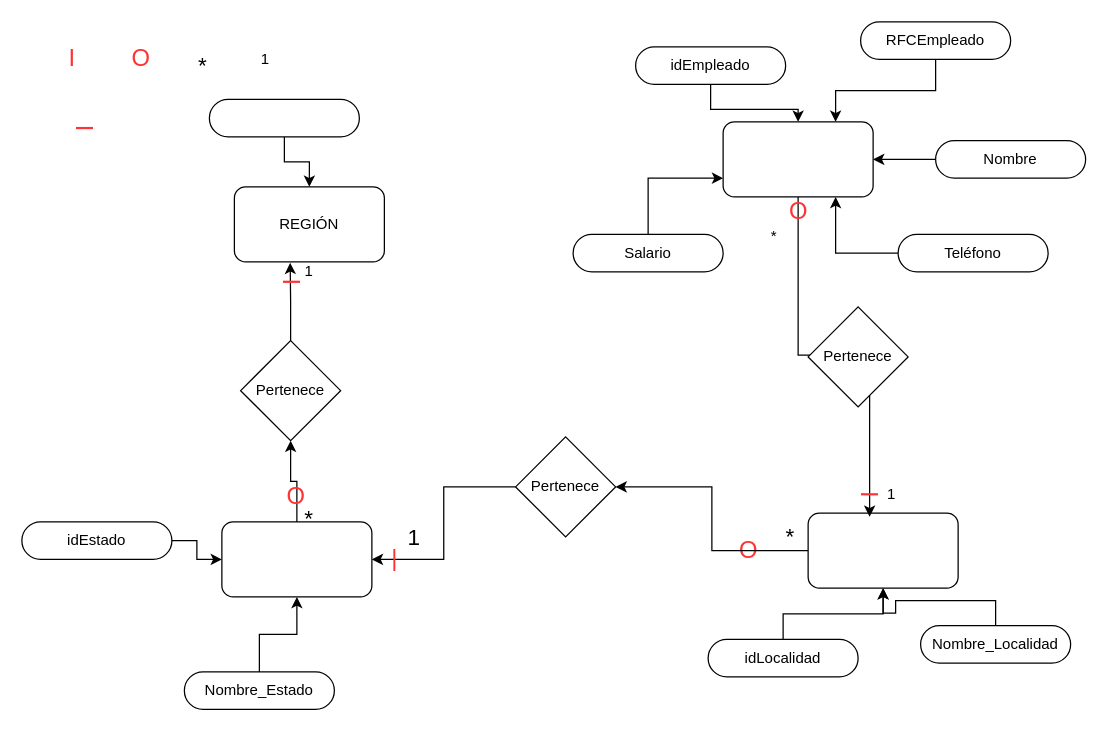
This 1108x731 diagram has some shape labels left out. Here are the shapes that lost their labels. From the top down, the centre of each, then its label:
point 283,117: Nombre_Región
point 797,159: EMPLEADO
point 296,559: ESTADO
point 882,550: LOCALIDAD
